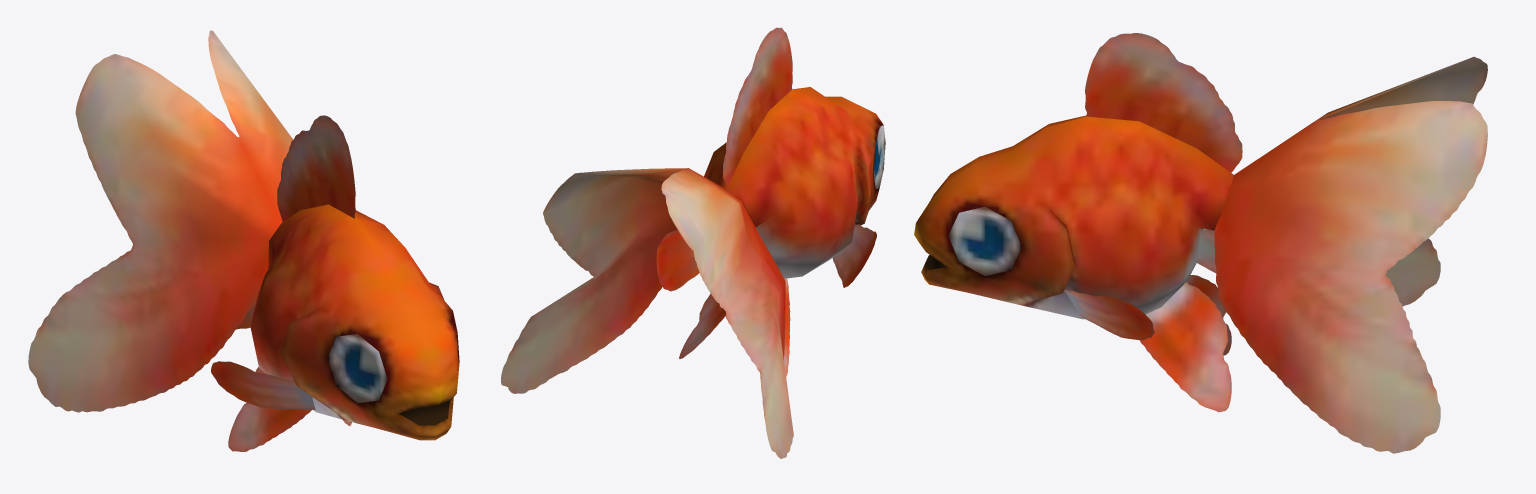
File: goldfish.glb
3 renders of one model, left to right at view 1: azimuth 30°, elevation 25°; view 2: azimuth 150°, elevation 25°; view 3: azimuth 270°, elevation 25°, orthographic. The views are drawn at different scales.
Bounding box in the file's own units: 1.9 × 2.21 × 3.09.
1 material, 1 textured.
